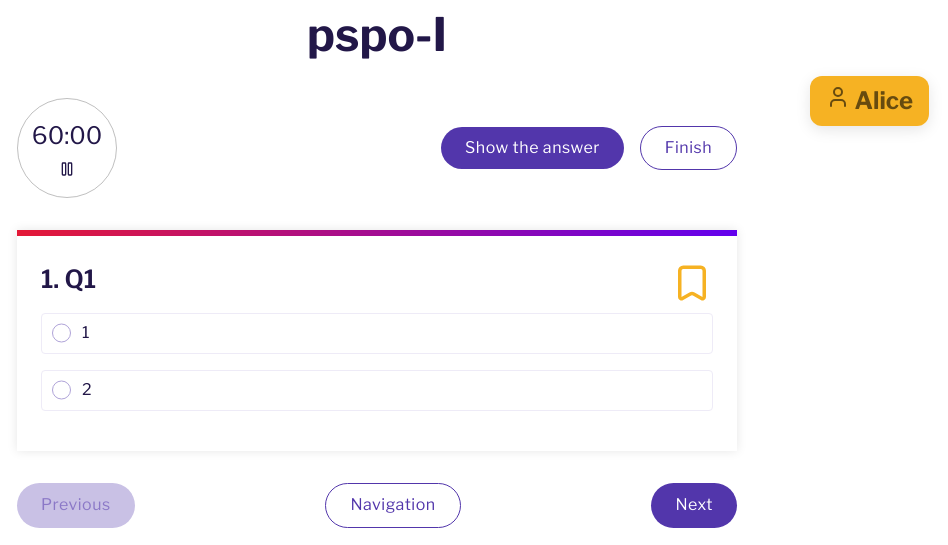
Scenario: Quizz Component - Coop Mode › displays the current participant name based on question index (2+ participants)
expect the text "Alice" is shown: met, box [826,84,913,118]
Click the button "Next": (694, 505) [651,483,737,528]
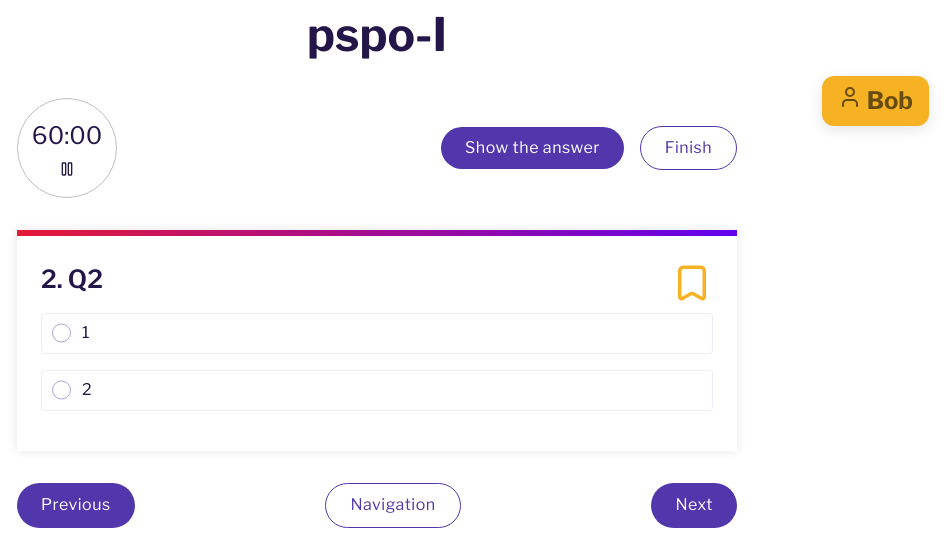
expect the text "Bob" is shown: met, box [838,84,913,118]
Click the button "Previous": (76, 505) [17,483,135,528]
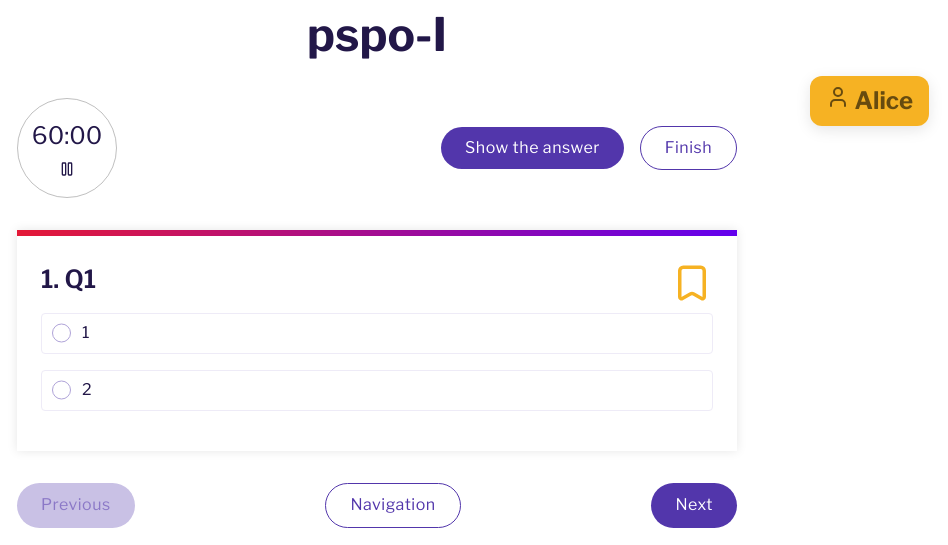
expect the text "Alice" is shown: met, box [826,84,913,118]
